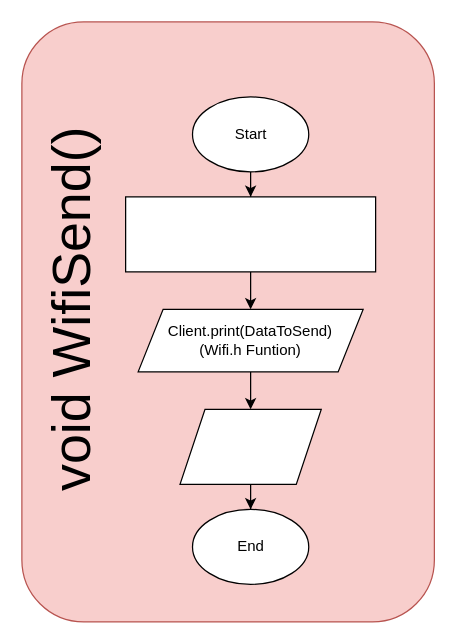
Some shapes in this 456 by 644 pixel diagram are drawn without their labels. Each missing label, with the centre of its shape:
Delay(10): the point at 250,446
Serial.println(DataToSend): the point at 250,234
